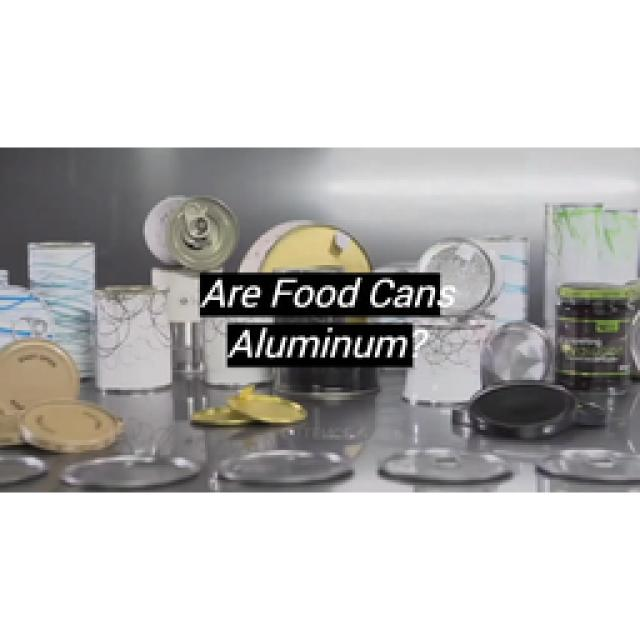alumunium: (238, 220, 635, 438), (0, 198, 238, 452), (62, 448, 198, 488), (380, 440, 508, 482), (190, 385, 308, 428), (215, 450, 348, 482), (535, 450, 638, 480), (0, 452, 48, 485)
